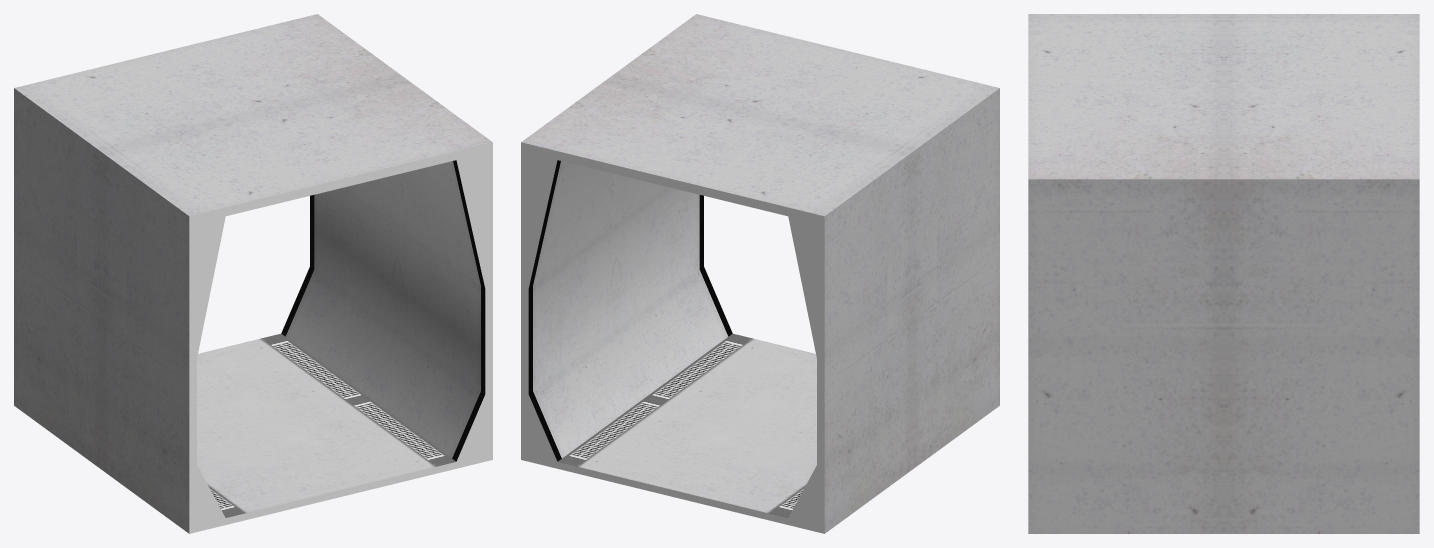
The model's file is rouka3rd.fbx.
3 views of the same model, side by side, from view 1: azimuth 30°, elevation 25°; view 2: azimuth 150°, elevation 25°; view 3: azimuth 270°, elevation 25° (orthographic). The views are drawn at different scales.
Visible parts, largest first — view 1: Cube; view 2: Cube; view 3: Cube.
Boxes of the visible parts, x1,y1,x2,y2 form: Cube: (14,14,492,533); Cube: (521,14,999,533); Cube: (1028,14,1419,533).
Bounding box in the file's own units: 2 × 2 × 2.
